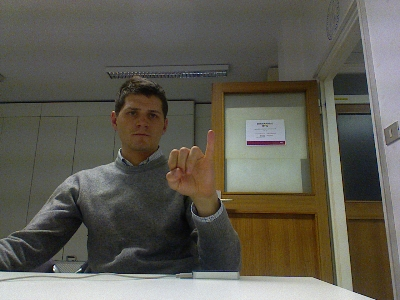小指: (164, 127, 216, 196)
